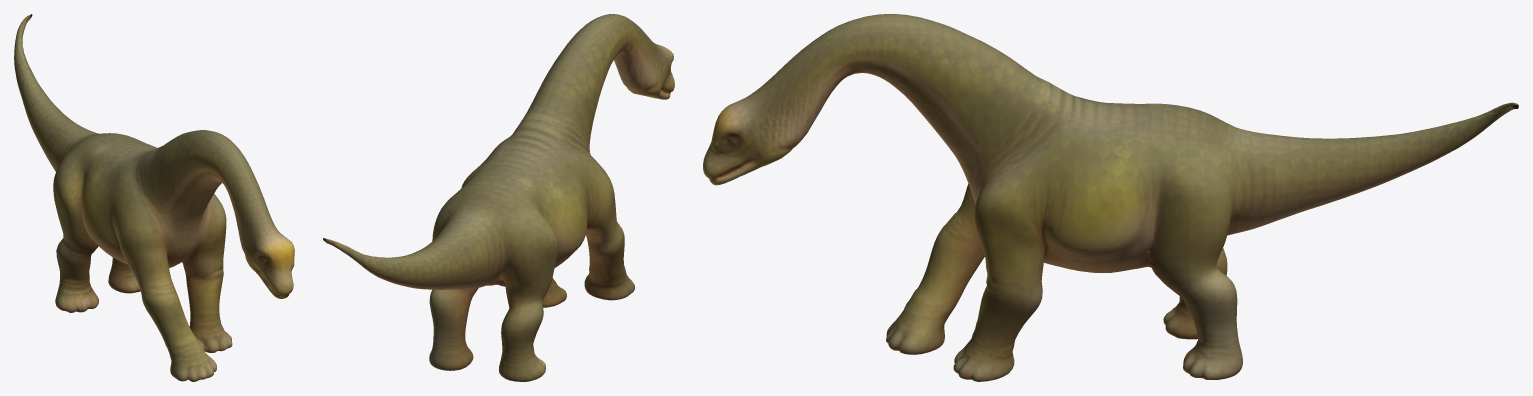
3 views of the same model, side by side, from view 1: azimuth 30°, elevation 25°; view 2: azimuth 150°, elevation 25°; view 3: azimuth 270°, elevation 25° (orthographic). The views are drawn at different scales.
Parts seen in each view (by area): view 1: world; view 2: world; view 3: world.
Part boxes in pixels (x1,y1,x2,y2): world: (14, 14, 294, 381); world: (323, 14, 674, 381); world: (703, 14, 1518, 381).
Size of the model in its own units: 4.57 by 9.65 by 21.
Materials: 1 (1 with a texture image).
